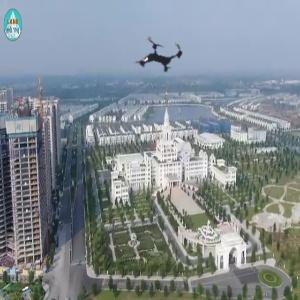drone: (121, 17, 199, 95)
